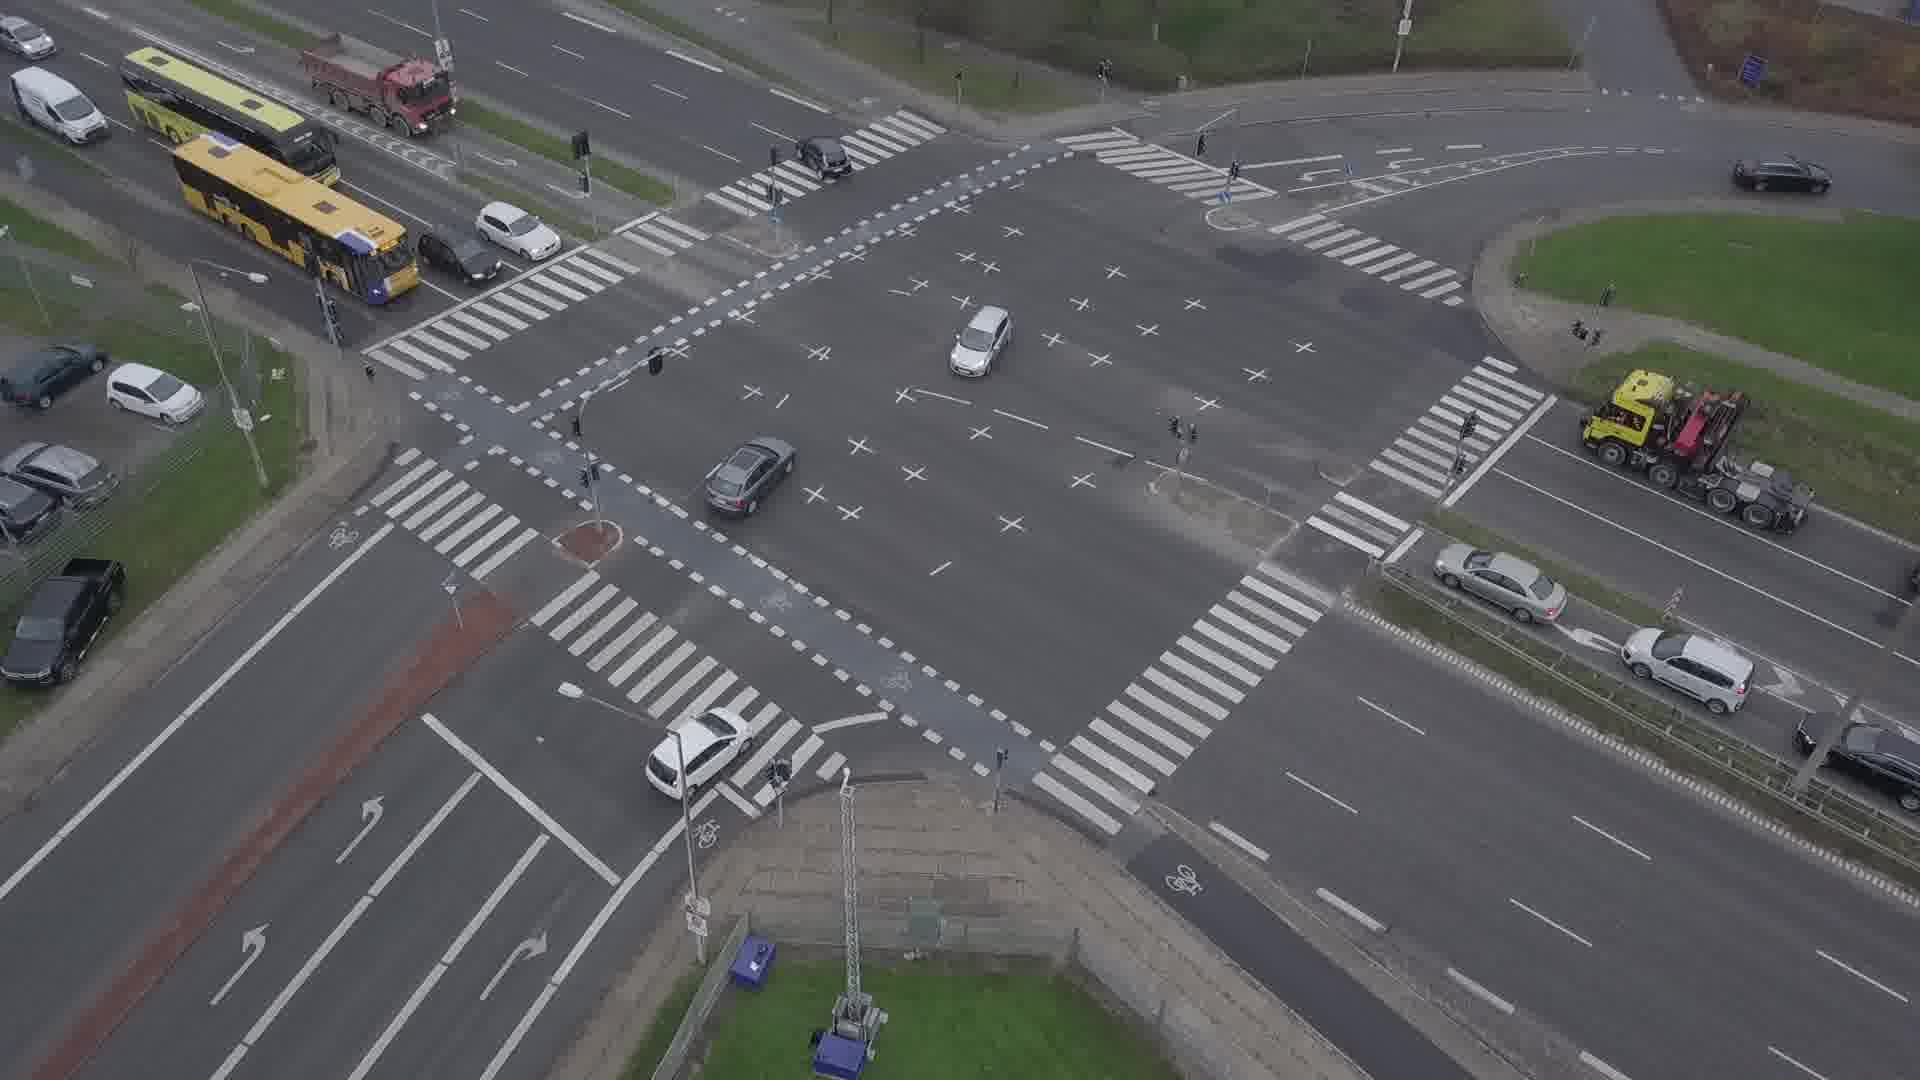bicycle: (319, 298, 345, 338)
car: (1796, 711, 1920, 811), (1622, 628, 1758, 716), (1433, 542, 1571, 624), (644, 705, 756, 803), (705, 435, 799, 517), (417, 225, 502, 286), (475, 200, 560, 260), (948, 306, 1013, 377), (1733, 153, 1834, 193), (795, 133, 853, 181), (0, 16, 57, 59)
